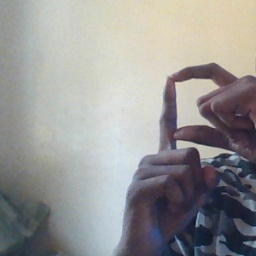D: (141, 57, 256, 182)
